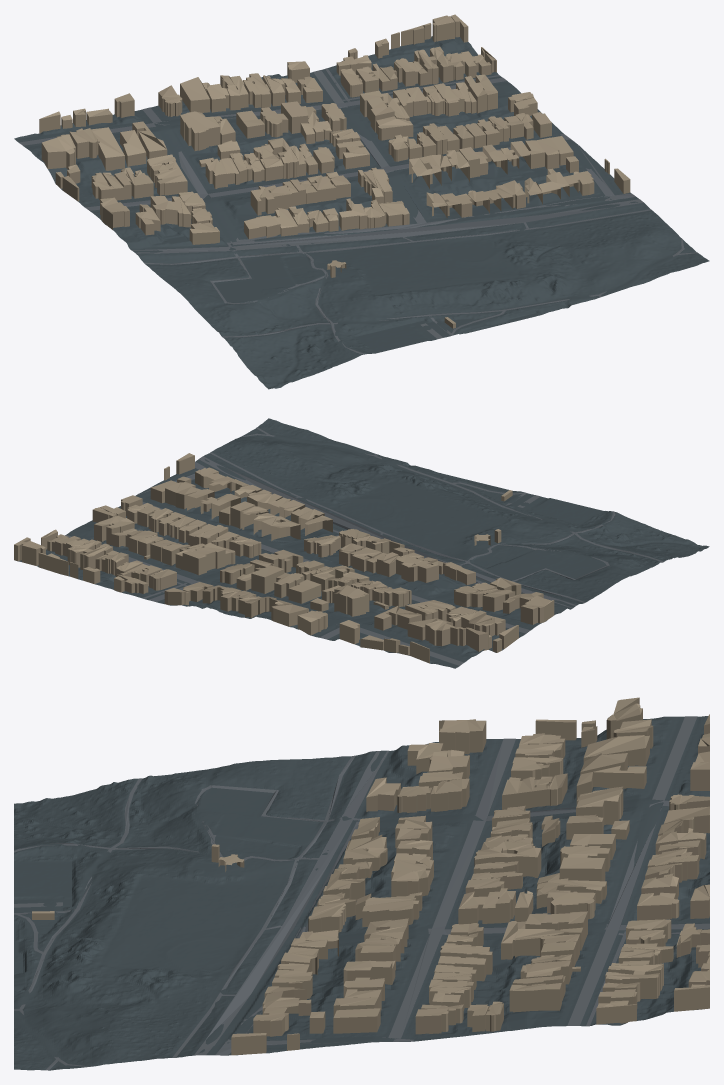
File: epsg26910-1427-10892.lod0.glb
3 views of the same model, one above another, from view 1: azimuth 30°, elevation 25°; view 2: azimuth 150°, elevation 25°; view 3: azimuth 270°, elevation 25° (orthographic). The views are drawn at different scales.
Visible parts, largest first — view 1: epsg26910-1427-10892-lod0; view 2: epsg26910-1427-10892-lod0; view 3: epsg26910-1427-10892-lod0.
Boxes of the visible parts, left/top/right/bottom form: epsg26910-1427-10892-lod0: left=14, top=14, right=709, bottom=389; epsg26910-1427-10892-lod0: left=14, top=418, right=709, bottom=668; epsg26910-1427-10892-lod0: left=14, top=697, right=709, bottom=1070.
Bounding box in the file's own units: 384 × 69.24 × 384.
